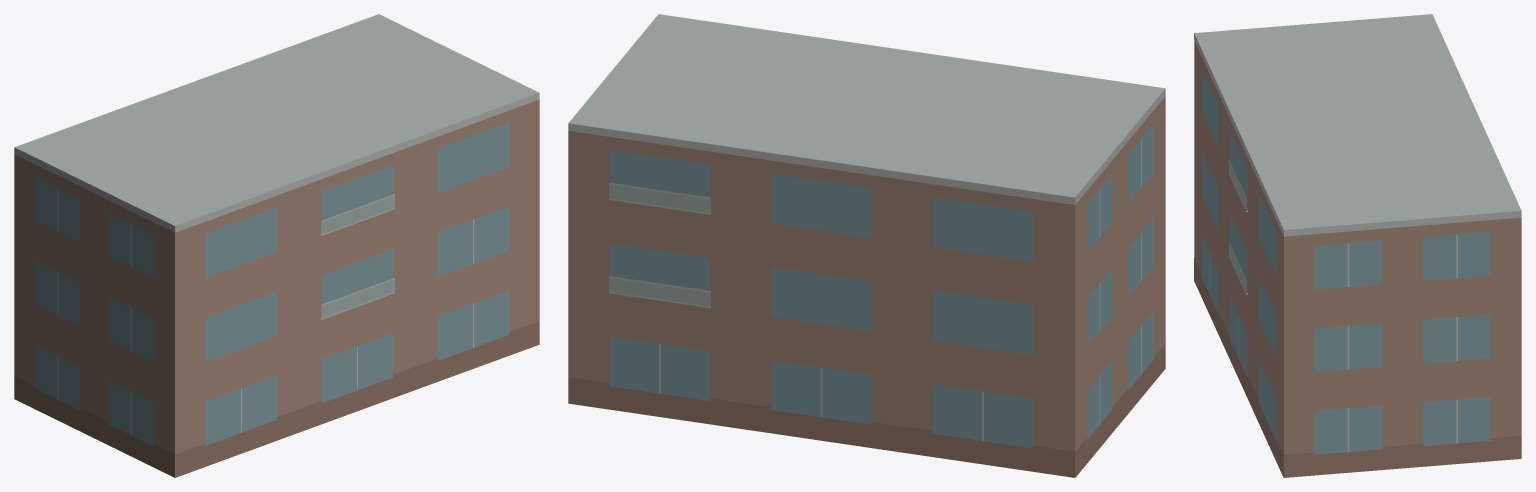
File: survey-upis-32706519.glb
3 renders of one model, left to right at view 1: azimuth 30°, elevation 25°; view 2: azimuth 150°, elevation 25°; view 3: azimuth 270°, elevation 25°, orthographic. The views are drawn at different scales.
Parts seen in each view (by area): view 1: survey-upis-32706519.tmp; view 2: survey-upis-32706519.tmp; view 3: survey-upis-32706519.tmp.
Boxes of the visible parts, x1,y1,x2,y2 form: survey-upis-32706519.tmp: (14, 14, 539, 477); survey-upis-32706519.tmp: (568, 14, 1165, 477); survey-upis-32706519.tmp: (1194, 14, 1521, 477).
Size of the model in its own units: 17.12 by 9.15 by 10.97.
